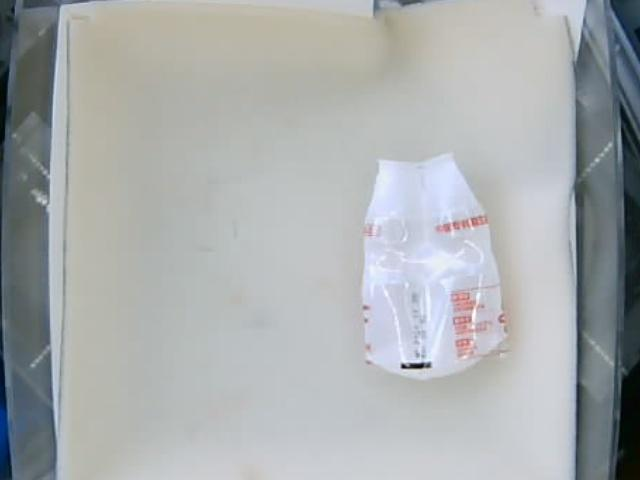Bottle: (356, 152, 510, 382)
